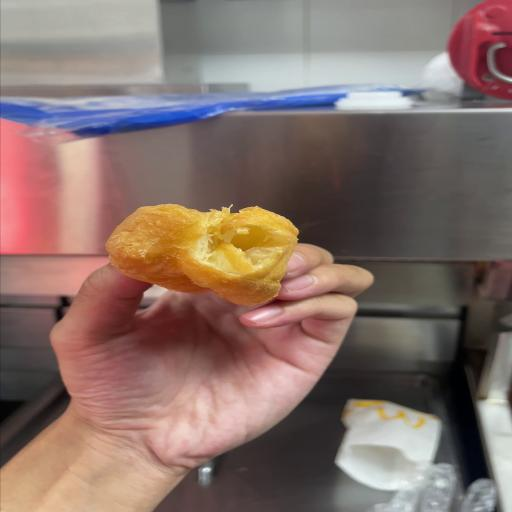brand_golden_defect: (106, 204, 298, 306)
